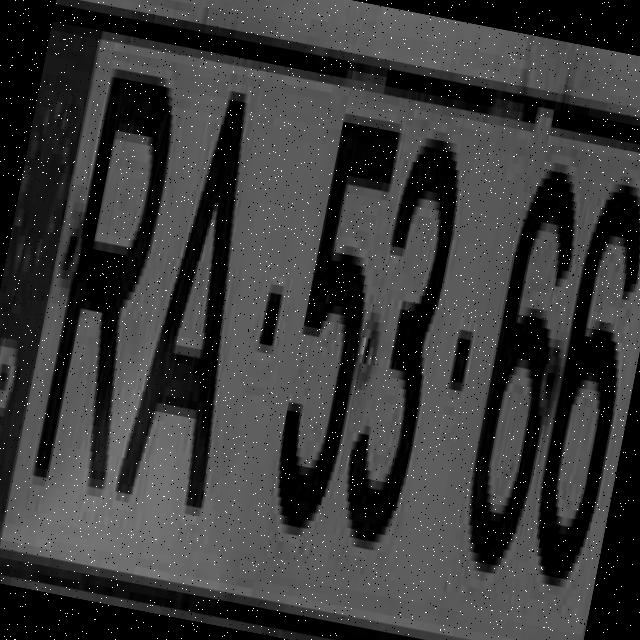EU: (0, 24, 640, 640)
Pologne: (0, 18, 103, 553)
